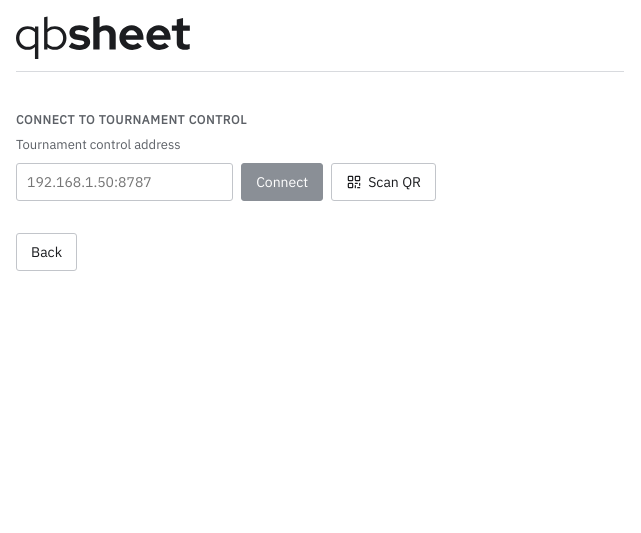
Test: connected setup stale state › editing the address clears the previous address error and unreachable UI
Type "192.168.1.50:8080" into the field labelled "Tournament control address".
click(125, 182); type("192.168.1.50:8080")  # box [16,162,233,201]
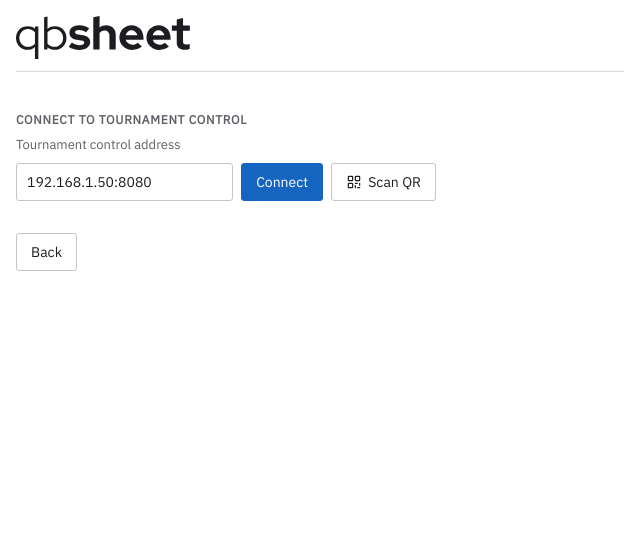
Click the button "Connect".
click(282, 182)  # box [241,162,323,201]
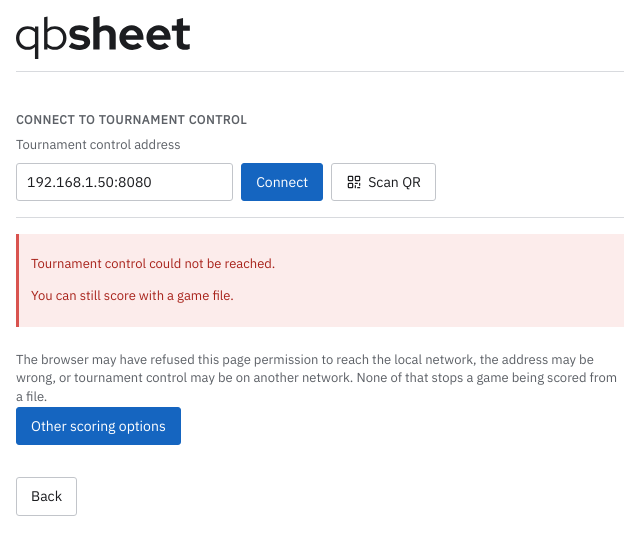
expect the message "Tournament control could not be reached. You can still score with a game file." is shown: met, box [16,234,624,326]
expect the button "Other scoring options" is shown: met, box [16,407,181,445]
Replace the text in the field labelled "Tournament control address" with "192.168.1.51:8080" at {"x": 125, "y": 182}, box [16,162,233,201]
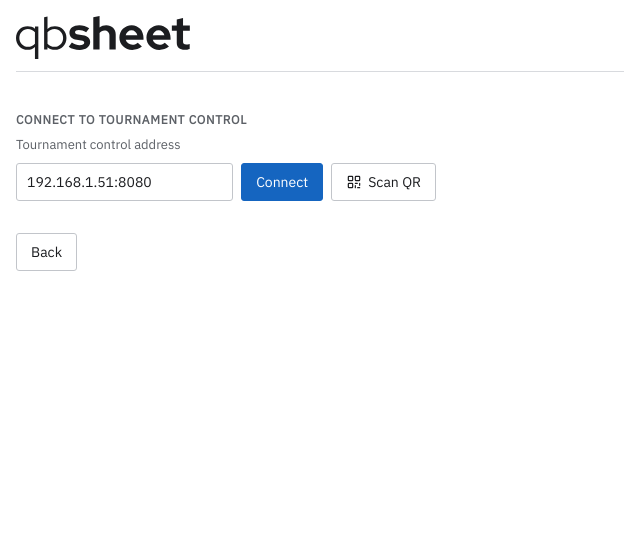
expect the message "Tournament control could not be reached. You can still score with a game file." is gone: met
expect the button "Other scoring options" is gone: met
